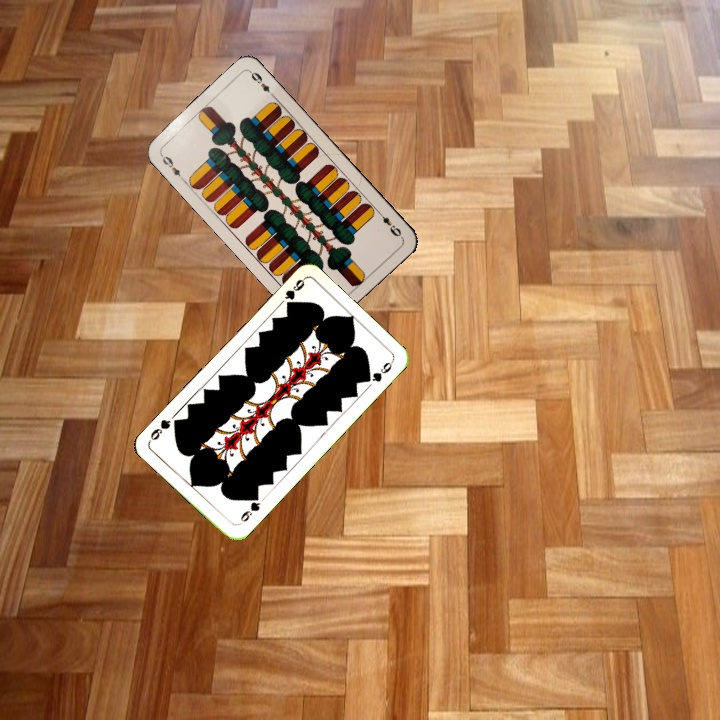E9: (156, 150, 187, 184), (374, 207, 404, 239)
G9: (281, 275, 307, 310), (236, 491, 263, 524)
